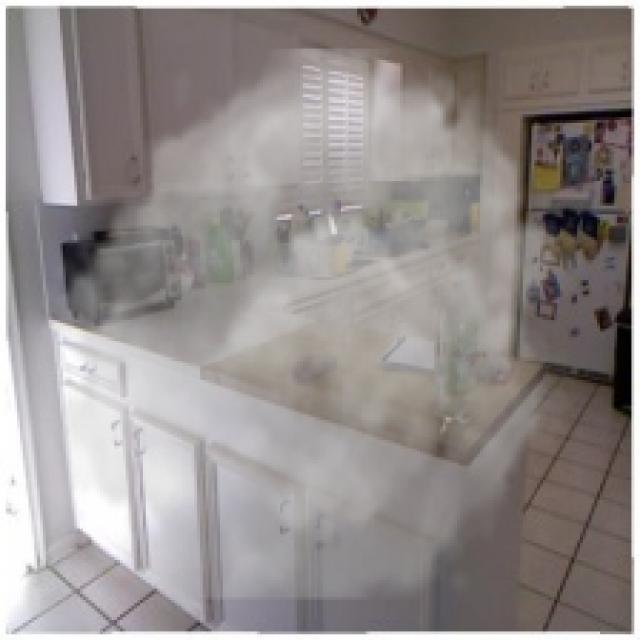Smoke: (34, 49, 586, 600)
